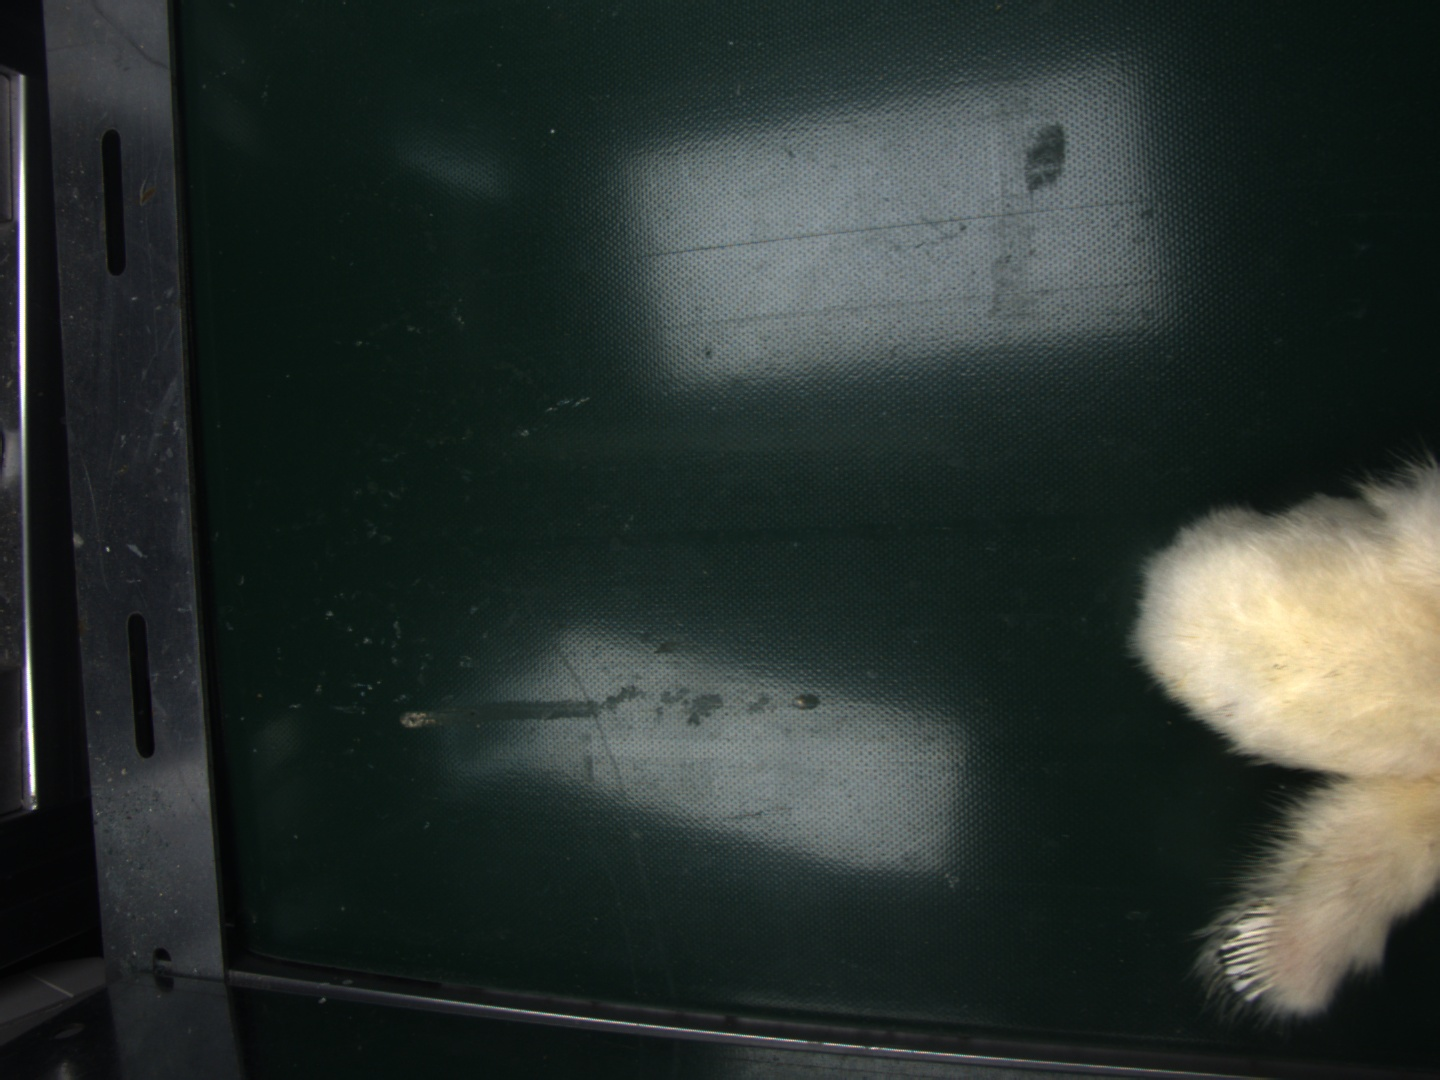male: (1225, 905, 1286, 998)
